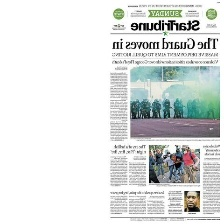news_paper: (108, 1, 222, 223)
